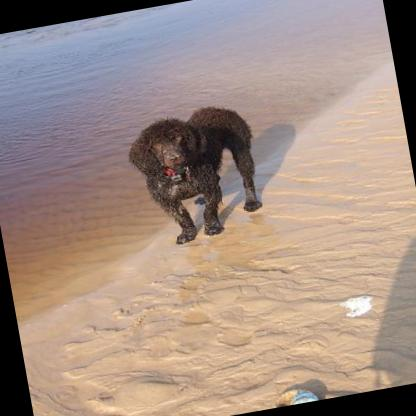Irish_water_spaniel: (112, 91, 274, 256)
